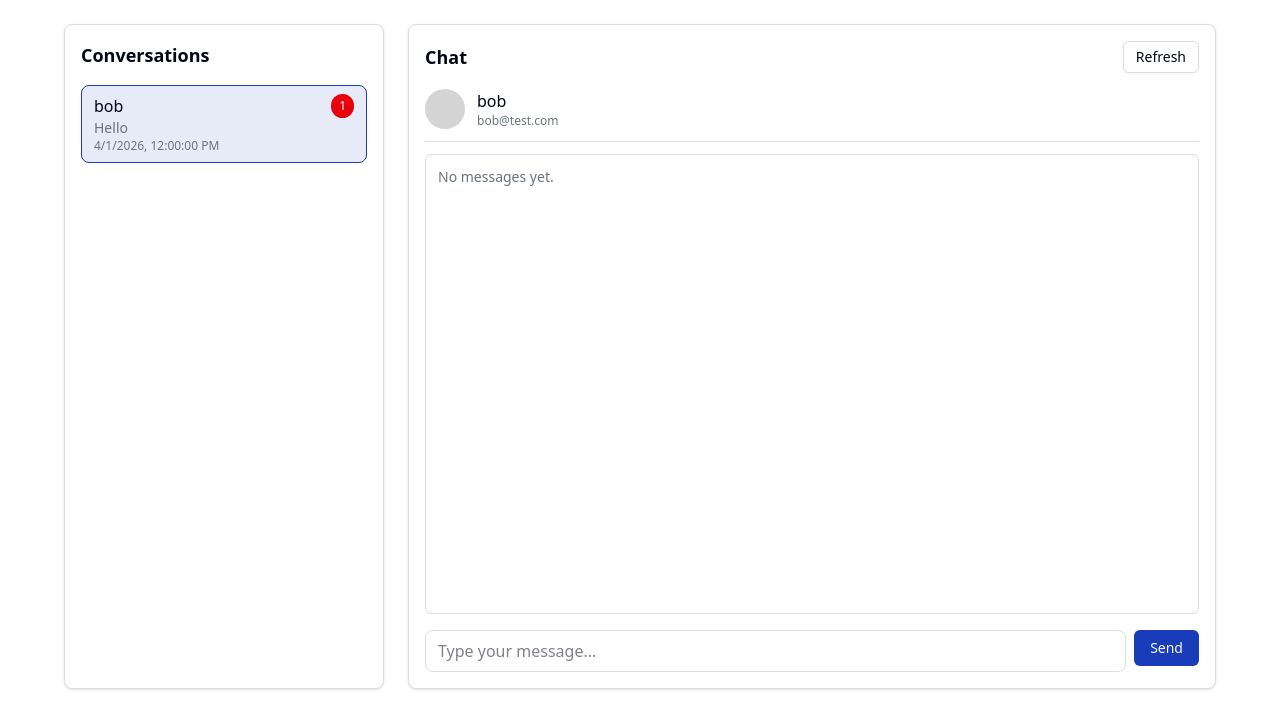
Test: Chat page › Refresh button reloads the thread and shows incoming messages
This screenshot has width=1280, height=720.
Expected: the text "No messages yet." is shown, [438,167,554,186]
# Click the in-page Refresh which should reload both conversations and the current thread
Click the button "Refresh". click: (1161, 57)
box: [1123,41,1199,73]
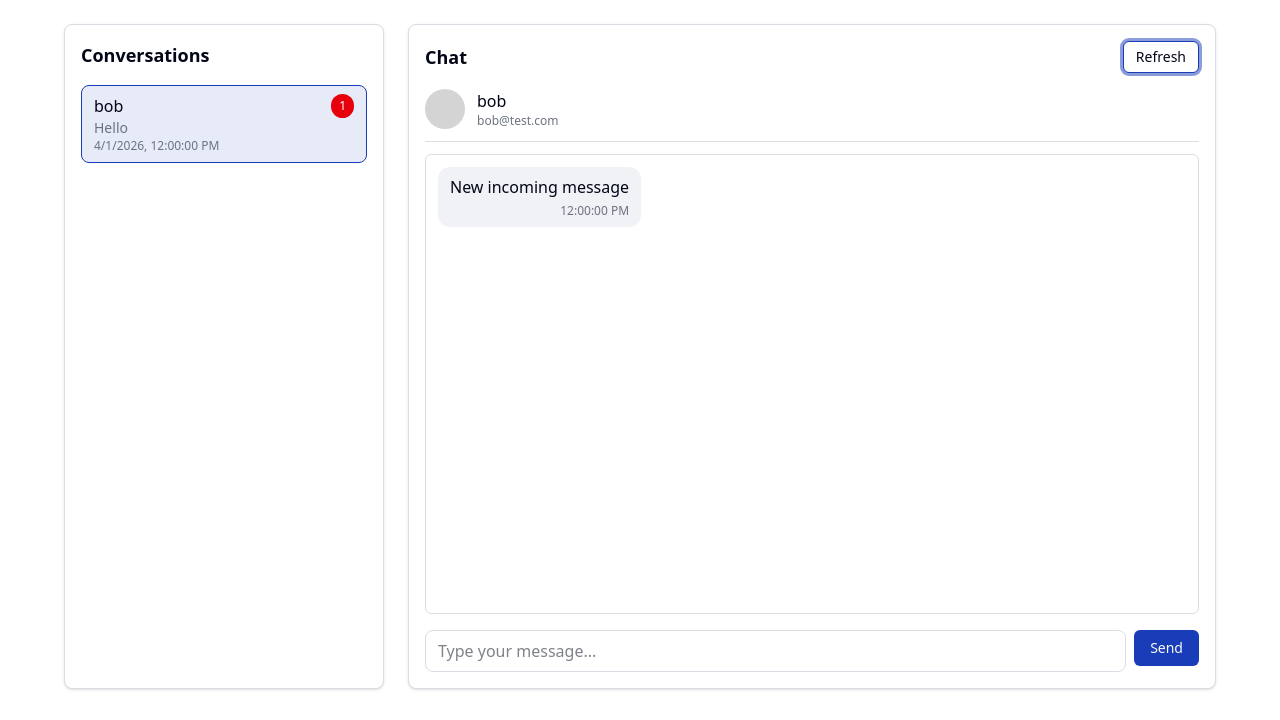
Now the text "New incoming message" is shown, box [450,175,629,199]
